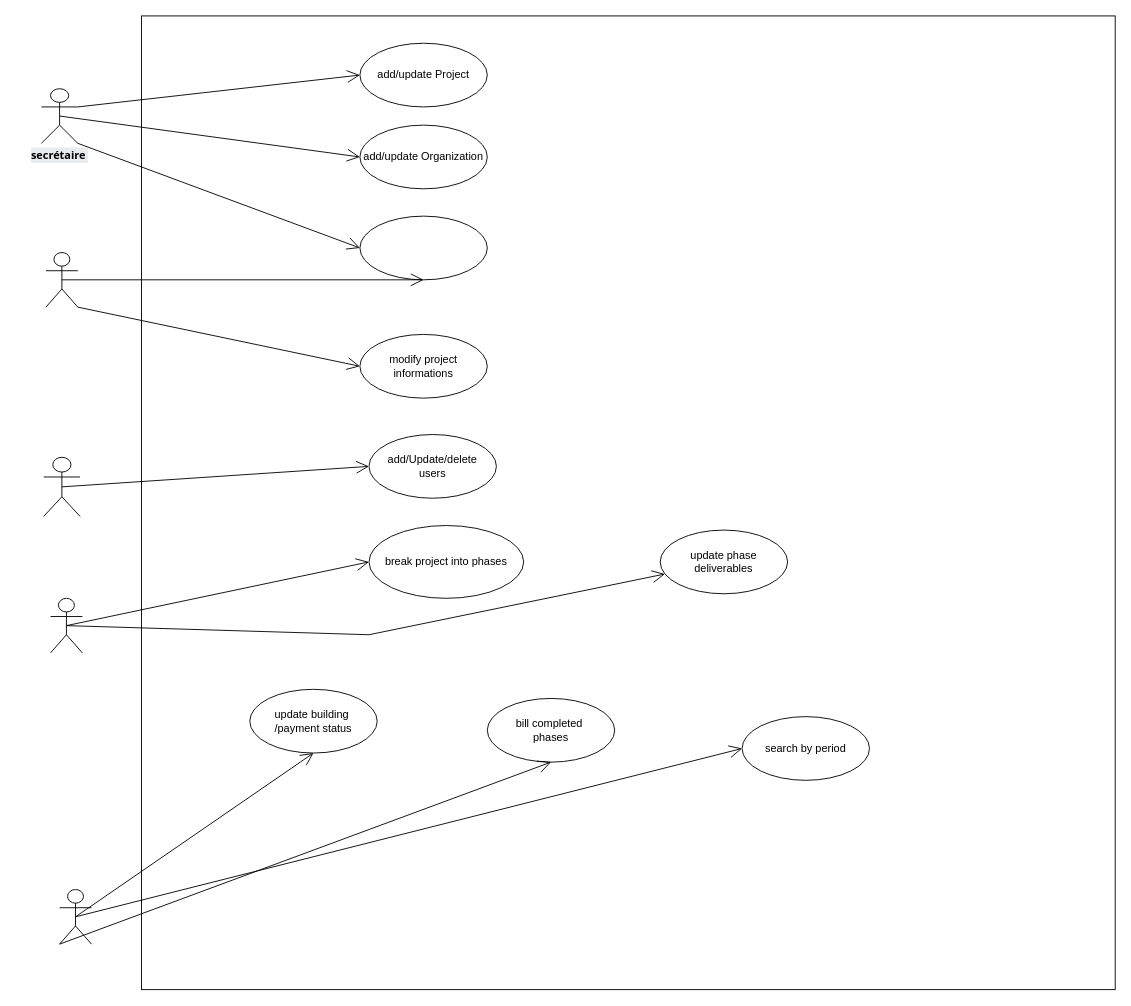
This 1131x1006 diagram has some shape labels left out. The shapes that lost their labels are listed below. From the top down, each one's centre as x and y in pixels, then its label:
point 423,247: search project
point 61,279: directeur
point 61,486: l'administrateur
point 66,625: chef de project
point 75,916: comptable
